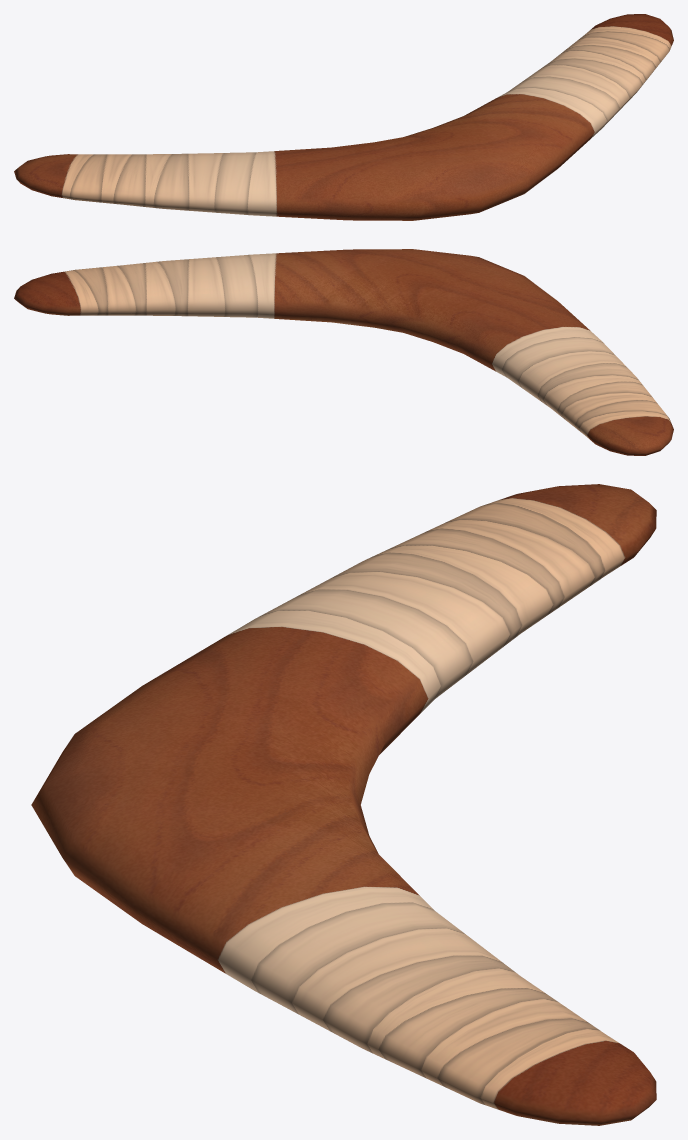
The model's file is Boomerang.obj.
The picture shows the model from 3 angles, top to bottom: view 1: azimuth 30°, elevation 25°; view 2: azimuth 150°, elevation 25°; view 3: azimuth 270°, elevation 25°; orthographic projection. The views are drawn at different scales.
Parts seen in each view (by area): view 1: Boomerang; view 2: Boomerang; view 3: Boomerang.
Part boxes in pixels (x1,y1,x2,y2): Boomerang: [14, 14, 673, 220]; Boomerang: [14, 249, 673, 455]; Boomerang: [31, 484, 656, 1125].
Size of the model in its own units: 82.2 by 6.18 by 34.44.
